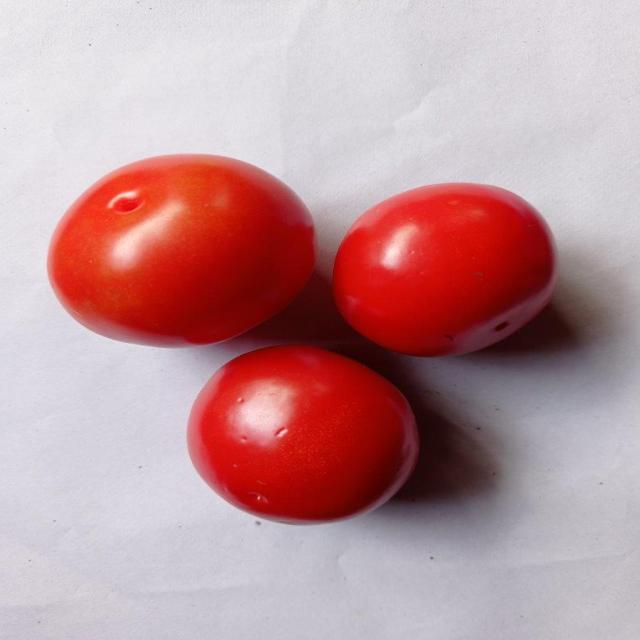Ripe: (42, 146, 321, 348), (181, 340, 427, 529), (329, 179, 563, 365)
